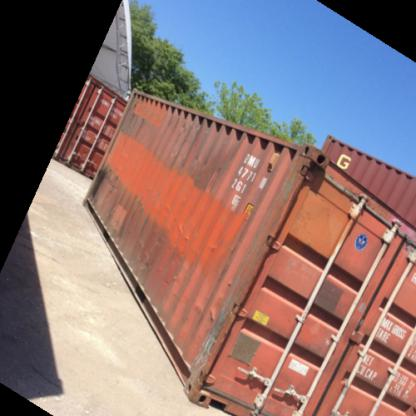Damage: (180, 303, 222, 381), (92, 164, 124, 212), (136, 228, 166, 276), (187, 144, 223, 181), (169, 252, 199, 290), (124, 98, 152, 138), (164, 116, 206, 132), (203, 235, 234, 256), (172, 221, 198, 244)
